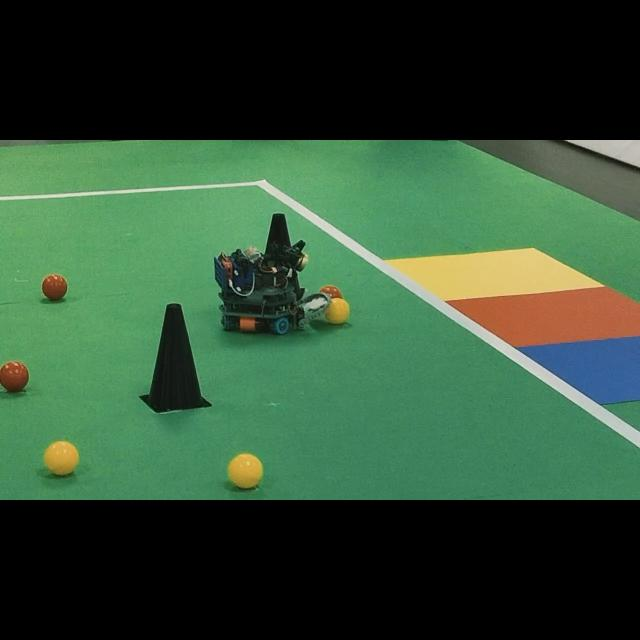ball: (228, 454, 262, 489), (45, 441, 79, 475), (0, 361, 29, 392), (42, 274, 68, 300), (325, 298, 350, 324), (319, 285, 342, 299)
goal: (386, 248, 602, 301), (450, 286, 640, 346), (519, 336, 640, 403)
